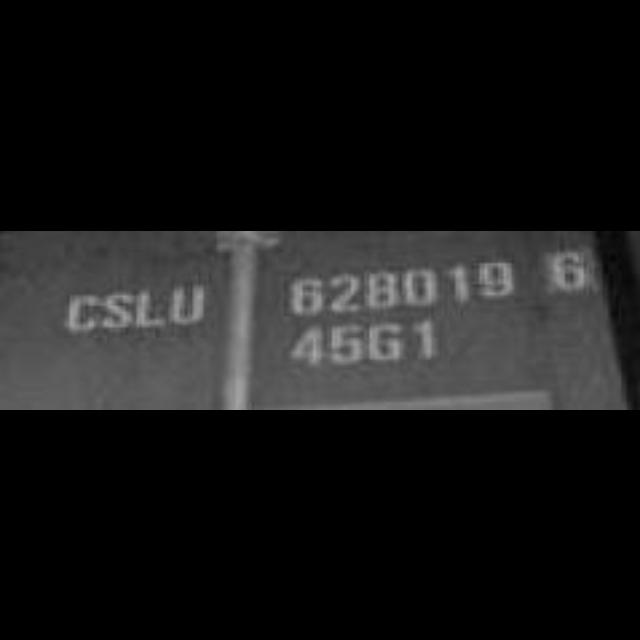0: (402, 262, 438, 314)
1: (408, 314, 442, 366), (446, 260, 474, 308)
2: (328, 270, 362, 316)
4: (288, 322, 328, 372)
5: (326, 318, 364, 366)
6: (548, 244, 588, 296), (288, 274, 326, 318)
8: (366, 264, 398, 312)
9: (477, 256, 517, 306)
c: (62, 288, 100, 336)
g: (368, 318, 404, 362)
l: (136, 286, 166, 330)
s: (102, 286, 136, 334)
u: (171, 278, 205, 328)
